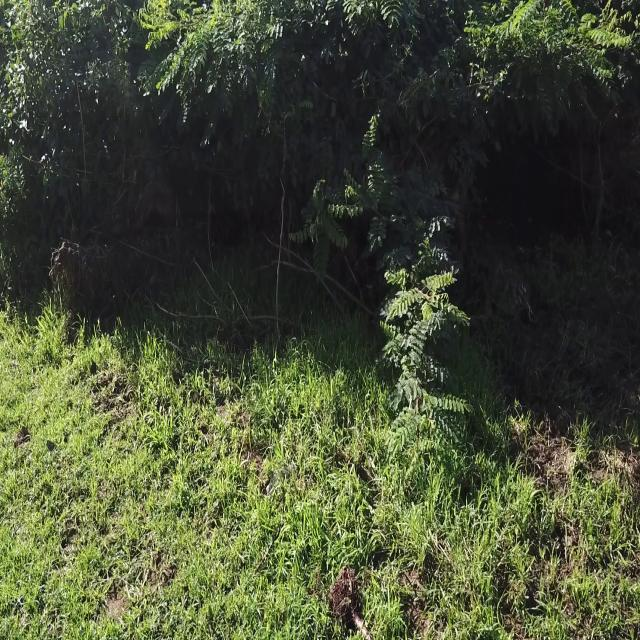Mysore-Thorn-Weed: (379, 208, 468, 464), (453, 0, 640, 105), (292, 93, 398, 274), (159, 0, 288, 126)
